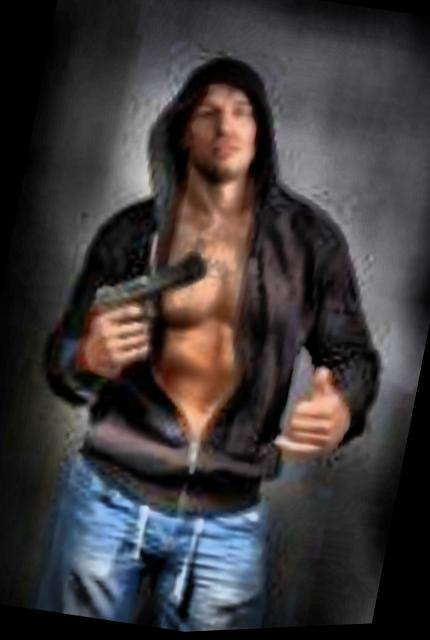pistol: (83, 236, 205, 354)
